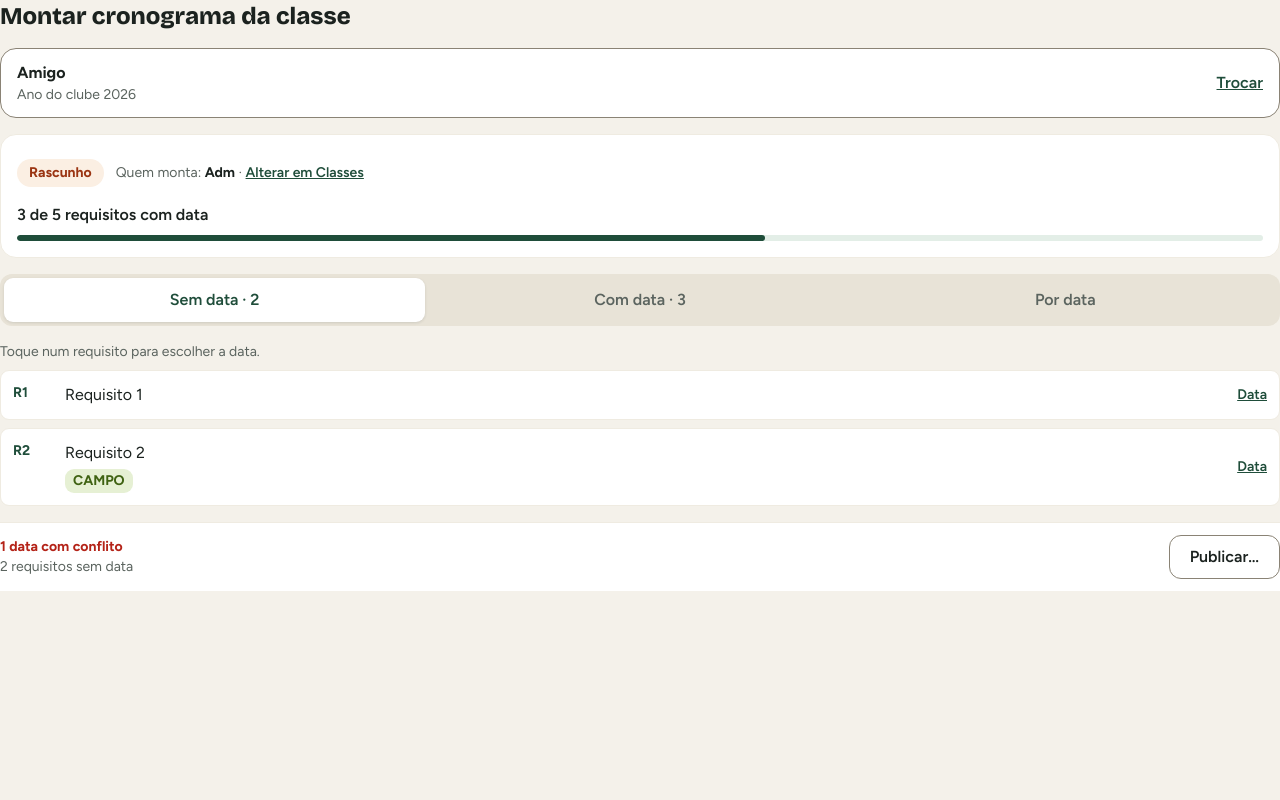
Test: A7 · montar no celular: folha "Em qual data?" › tocar no requisito abre a folha com o requisito, onde ele está e as datas com quantos requisitos já têm
Expected: the text "3 de 5 requisitos com data" is shown, [17, 205, 208, 224]
Click the button "R1 Requisito 1 Data" at (104, 394), box [0, 370, 1279, 420]
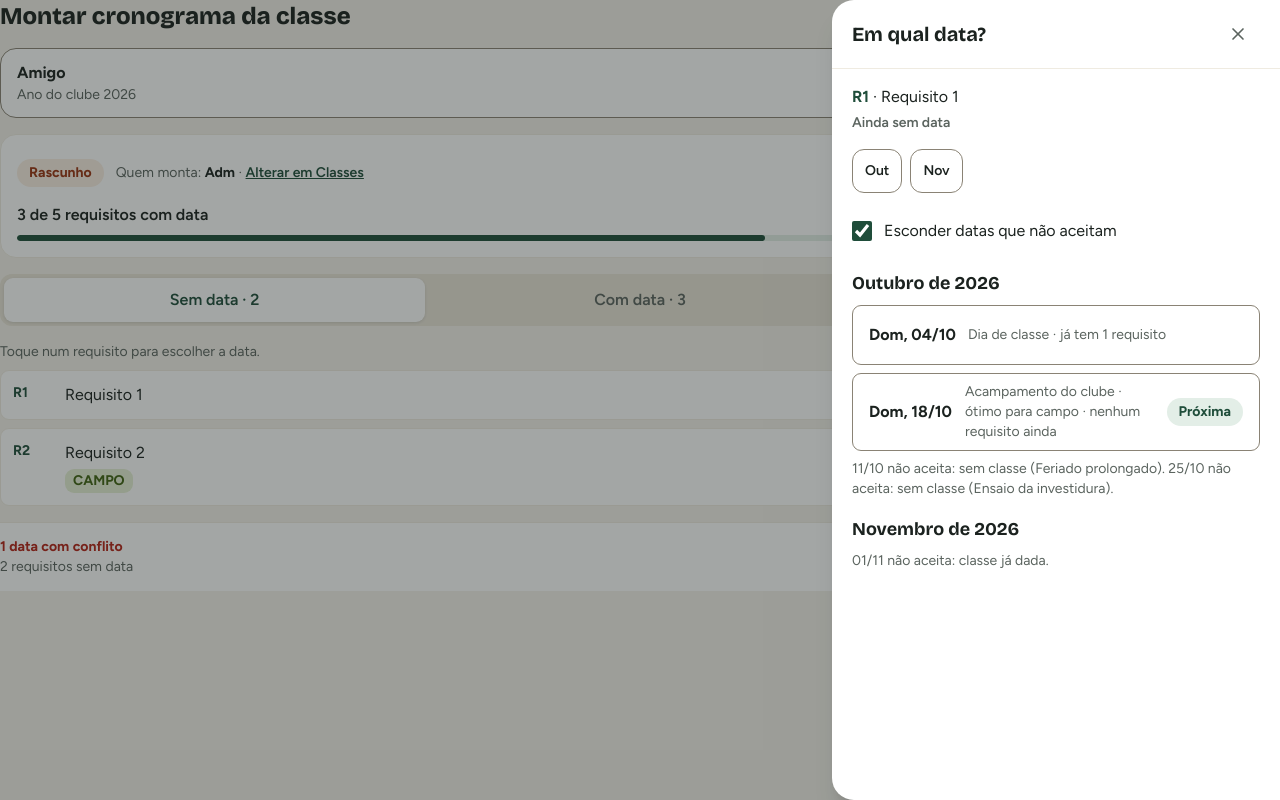
Expected: the text "Ainda sem data" is shown, [852, 114, 950, 131]
